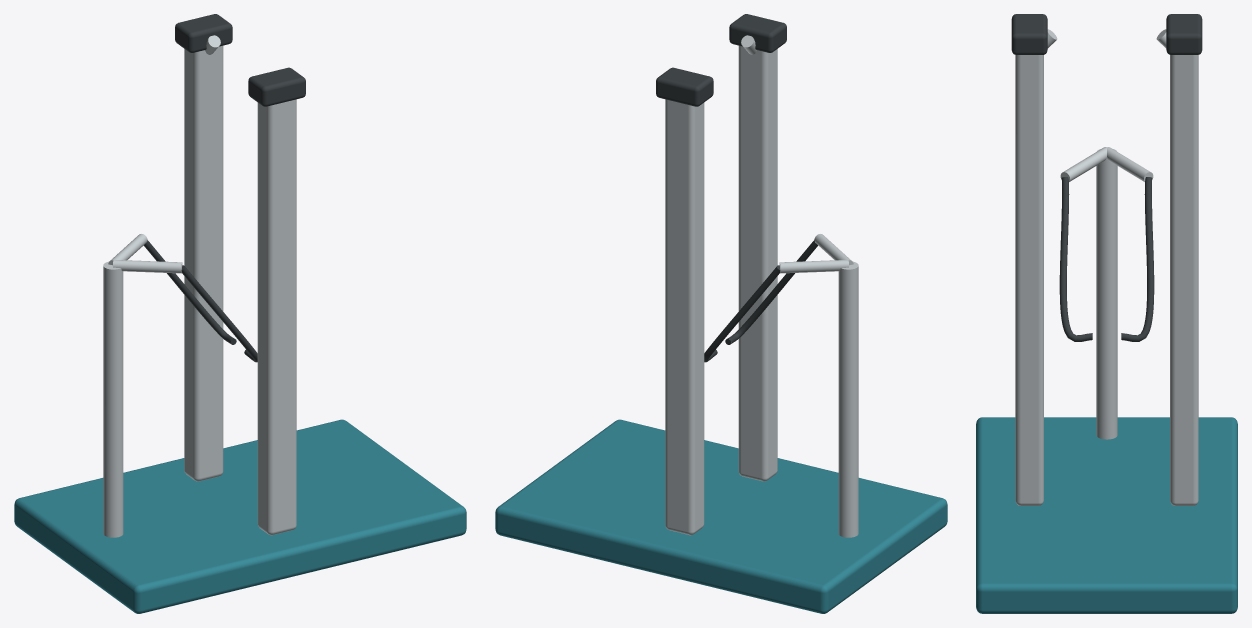
The model's file is bicycle-shop-and-repair-cafe-wheel-truing-stand-d85c9188__32389.glb.
3 renders of one model, left to right at view 1: azimuth 30°, elevation 25°; view 2: azimuth 150°, elevation 25°; view 3: azimuth 270°, elevation 25°, orthographic. The views are drawn at different scales.
Visible parts, largest first — view 1: wheel-truing-stand; view 2: wheel-truing-stand; view 3: wheel-truing-stand.
Part boxes in pixels (x1=…): wheel-truing-stand: x1=14, y1=14, x2=466, y2=613; wheel-truing-stand: x1=495, y1=14, x2=947, y2=613; wheel-truing-stand: x1=976, y1=14, x2=1237, y2=613.
Size of the model in its own units: 0.34 by 0.47 by 0.22.
